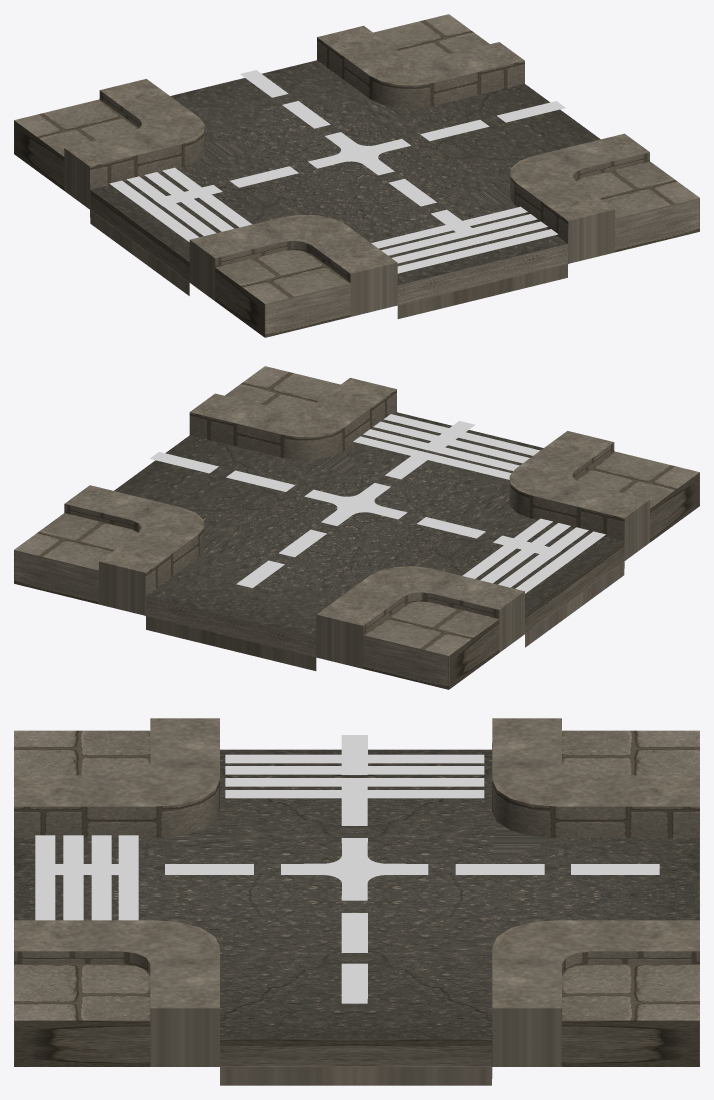
Rendered from Road_Cross.fbx.
The picture shows the model from 3 angles, top to bottom: view 1: azimuth 30°, elevation 25°; view 2: azimuth 150°, elevation 25°; view 3: azimuth 270°, elevation 25°; orthographic projection. The views are drawn at different scales.
Visible parts, largest first — view 1: Cube.002, Plane.003, Plane.005, Plane; view 2: Cube.002, Plane.003, Plane.005, Plane; view 3: Cube.002, Plane.003, Plane, Plane.005.
Part boxes in pixels (left/top/right/bottom): Cube.002: left=14, top=14, right=699, bottom=337; Plane.003: left=153, top=70, right=565, bottom=237; Plane.005: left=371, top=206, right=558, bottom=273; Plane: left=109, top=167, right=251, bottom=242; Cube.002: left=14, top=366, right=699, bottom=689; Plane.003: left=150, top=421, right=561, bottom=587; Plane.005: left=353, top=414, right=540, bottom=479; Plane: left=462, top=518, right=605, bottom=593; Cube.002: left=14, top=718, right=699, bottom=1085; Plane.003: left=49, top=735, right=659, bottom=1003; Plane: left=225, top=754, right=484, bottom=798; Plane.005: left=35, top=835, right=138, bottom=920.
Size of the model in its own units: 375 by 46.91 by 375.
